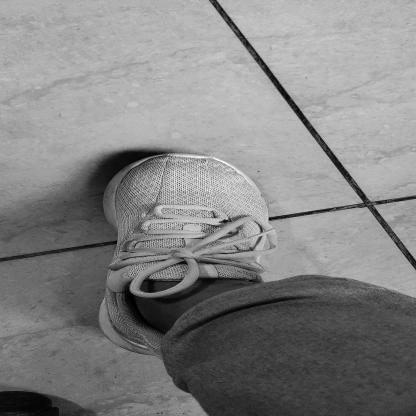ankle: (116, 301, 129, 306)
heel: (130, 346, 144, 351)
left_foot: (101, 154, 269, 358)
pinky: (238, 178, 250, 184)
toe: (142, 169, 155, 173)
